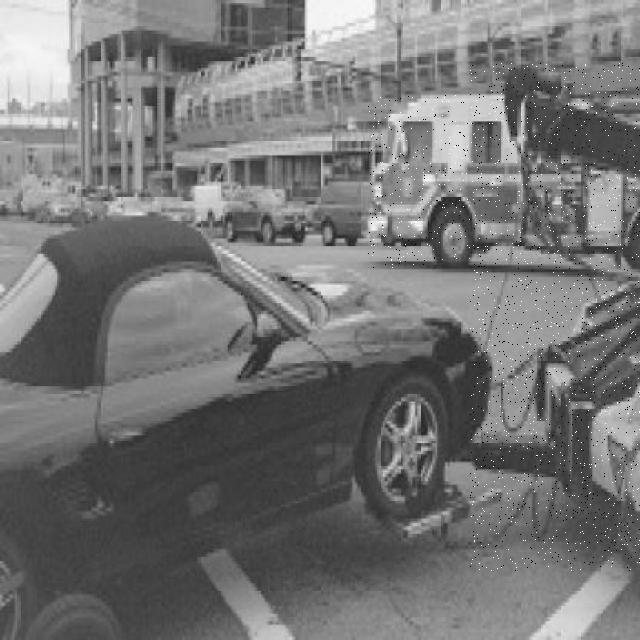Fire Truck: (368, 95, 640, 268)
Tow Truck: (470, 63, 640, 571)
